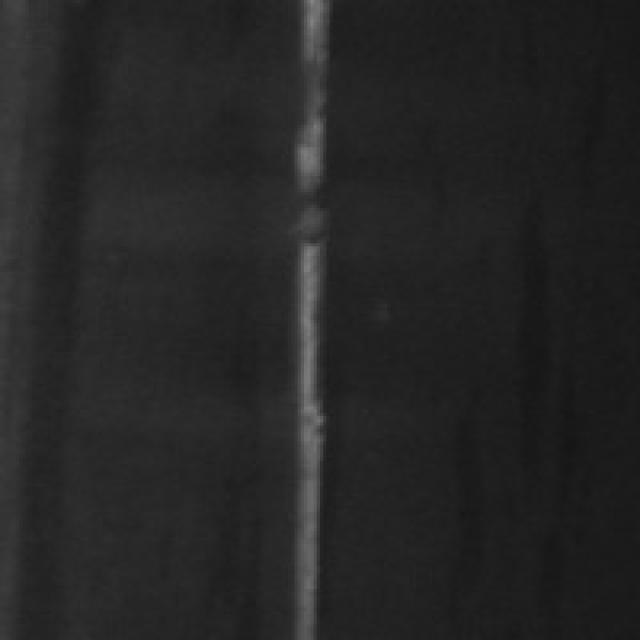scratches: (278, 0, 336, 637)
